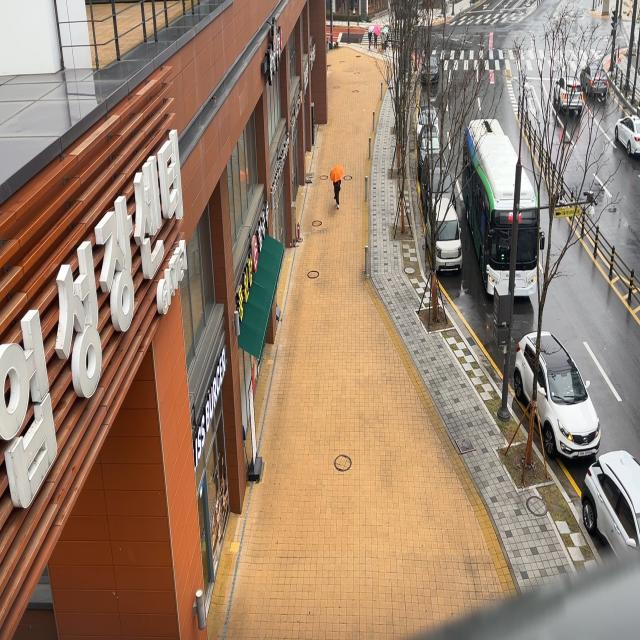Bus: (457, 110, 548, 310)
Car: (513, 330, 603, 463), (576, 446, 636, 556), (423, 194, 465, 274), (420, 155, 461, 217), (552, 67, 588, 125), (582, 57, 612, 107), (416, 124, 440, 170), (614, 116, 640, 158), (412, 104, 443, 138), (419, 50, 442, 93)
